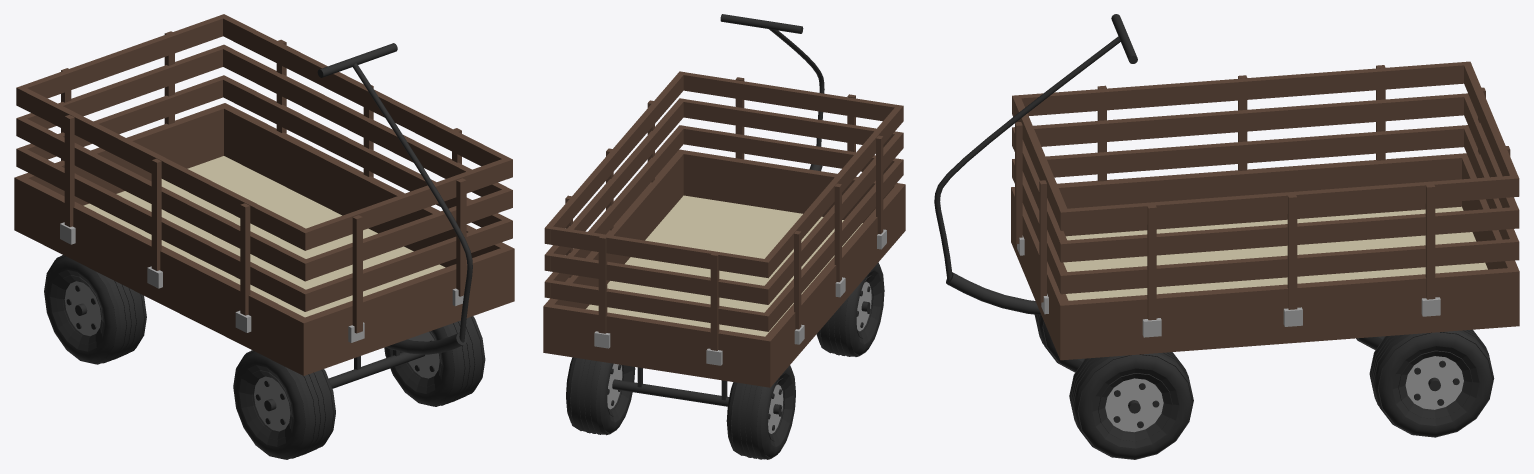
Rendered from wagon_c.fbx.
3 renders of one model, left to right at view 1: azimuth 30°, elevation 25°; view 2: azimuth 150°, elevation 25°; view 3: azimuth 270°, elevation 25°, orthographic. The views are drawn at different scales.
Parts seen in each view (by area): view 1: Box20218; view 2: Box20218; view 3: Box20218.
Boxes of the visible parts, x1=… form: Box20218: x1=14, y1=14, x2=514, y2=459; Box20218: x1=543, y1=14, x2=905, y2=459; Box20218: x1=934, y1=14, x2=1519, y2=459.
Size of the model in its own units: 0.6179 by 0.714 by 1.
